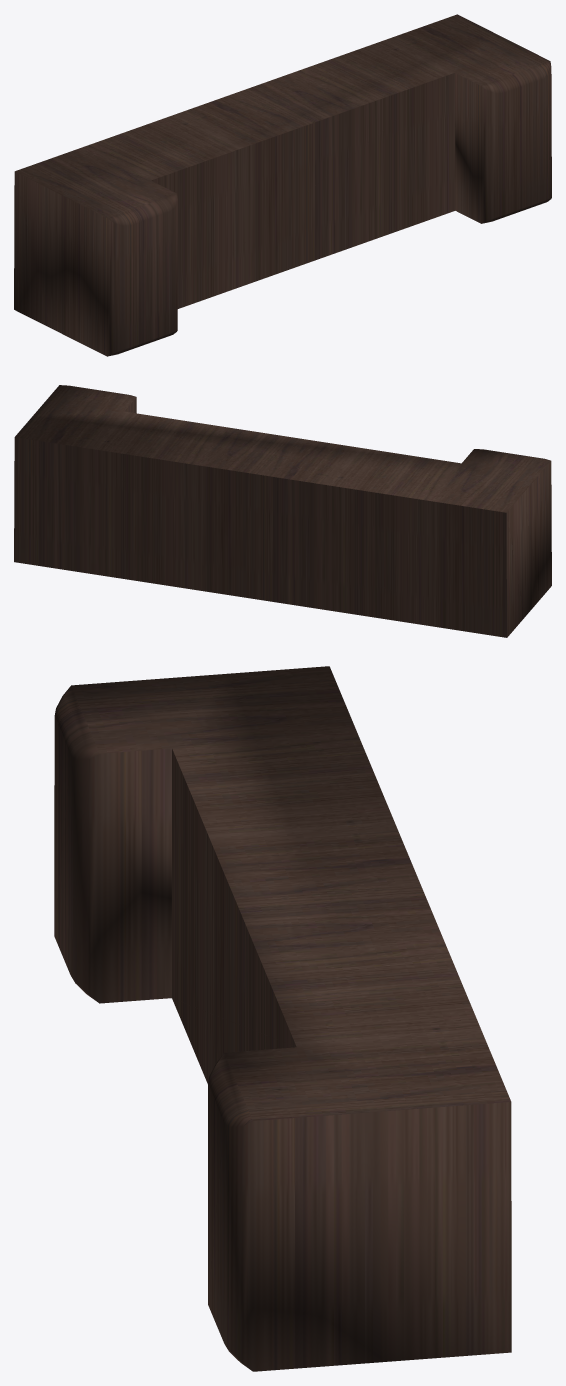
3 views of the same model, one above another, from view 1: azimuth 30°, elevation 25°; view 2: azimuth 150°, elevation 25°; view 3: azimuth 270°, elevation 25° (orthographic). The views are drawn at different scales.
Visible parts, largest first — view 1: 山口; view 2: 山口; view 3: 山口.
Boxes of the visible parts, x1,y1,x2,y2 form: 山口: (14,14,551,356); 山口: (14,385,551,637); 山口: (54,666,511,1371).
Bounding box in the file's own units: 54.69 × 13.99 × 23.17.
Materials: 1 (1 with a texture image).
